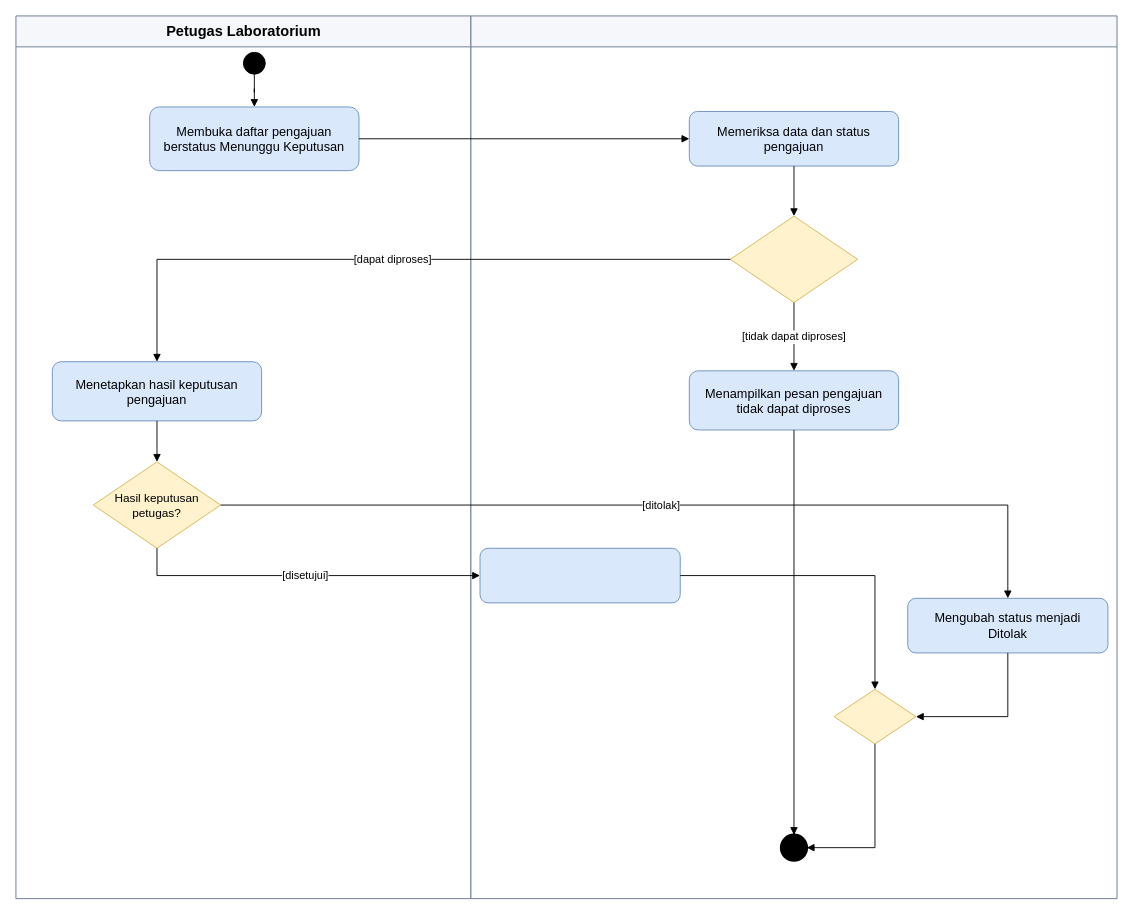
Image size: 1133x915. Some labels were removed from this diagram. The shapes that lost their labels are listed below. From the top down, each one's box as (x1, y1, x2, y2) in pixels, then its label:
(729, 215, 858, 303): Pengajuan dapat diproses?
(470, 15, 1117, 899): Sistem
(479, 547, 680, 603): Mengubah status menjadi Disetujui
